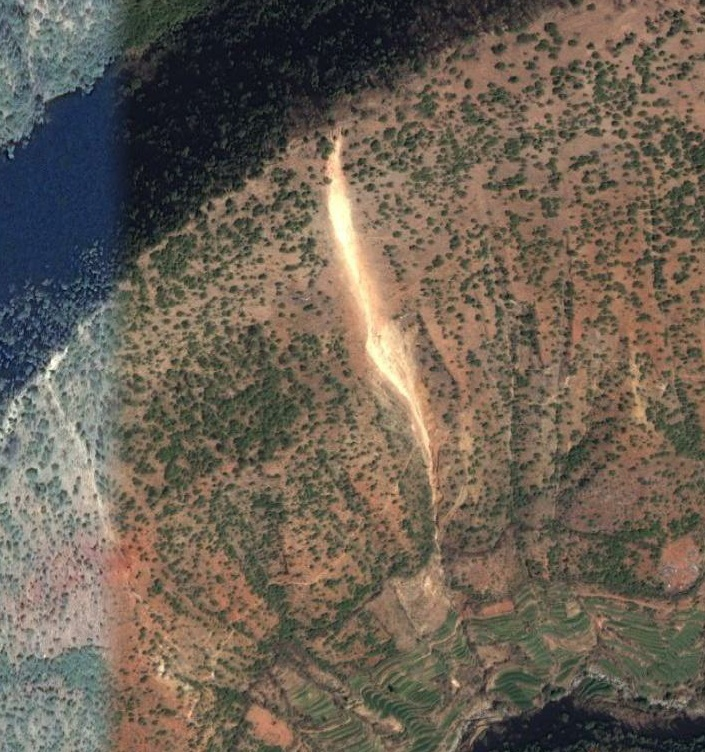slope: (312, 128, 450, 502)
